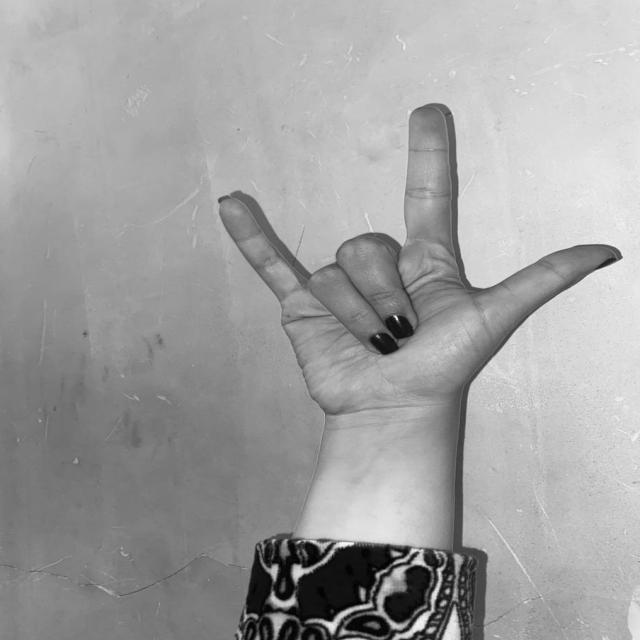i love you: (209, 98, 624, 463)
